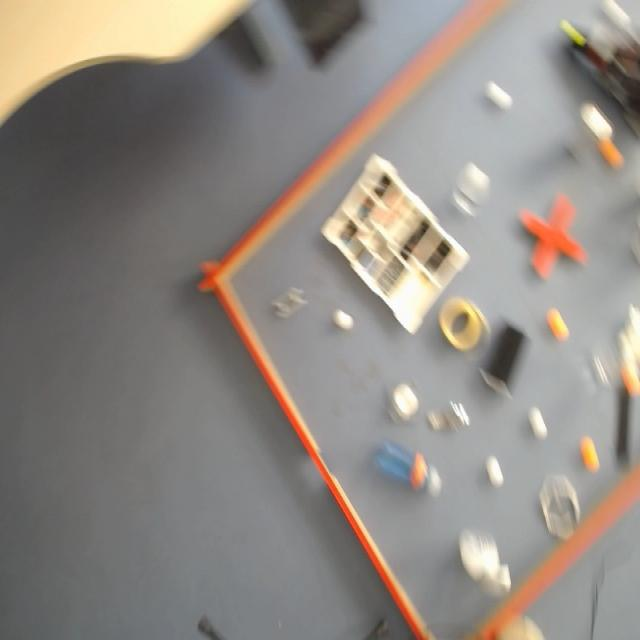orange: (546, 310, 569, 341), (580, 437, 596, 470)
white: (528, 407, 546, 440), (332, 309, 356, 332), (486, 454, 502, 486)
